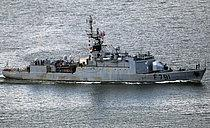MIL_Ship: (2, 26, 206, 84)
